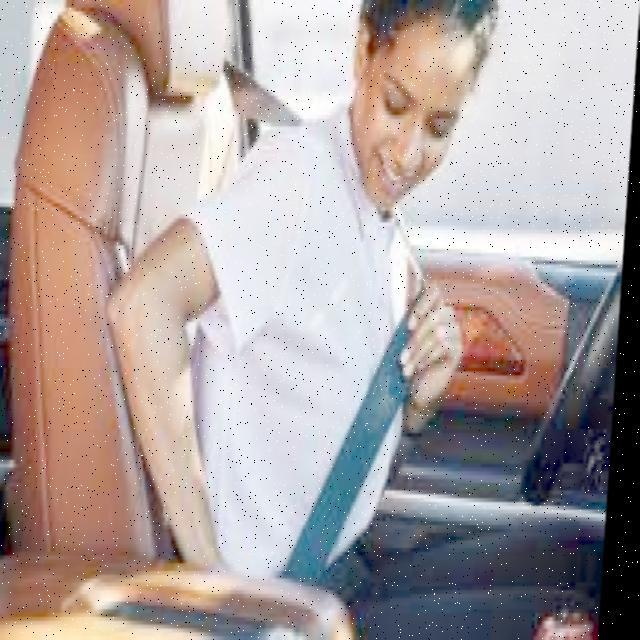seatbelt: (247, 158, 453, 614)
